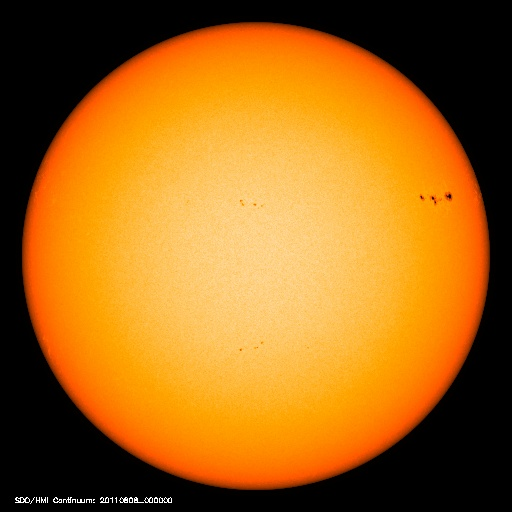sunspot: (411, 183, 458, 210), (227, 189, 273, 215), (227, 330, 266, 358)
